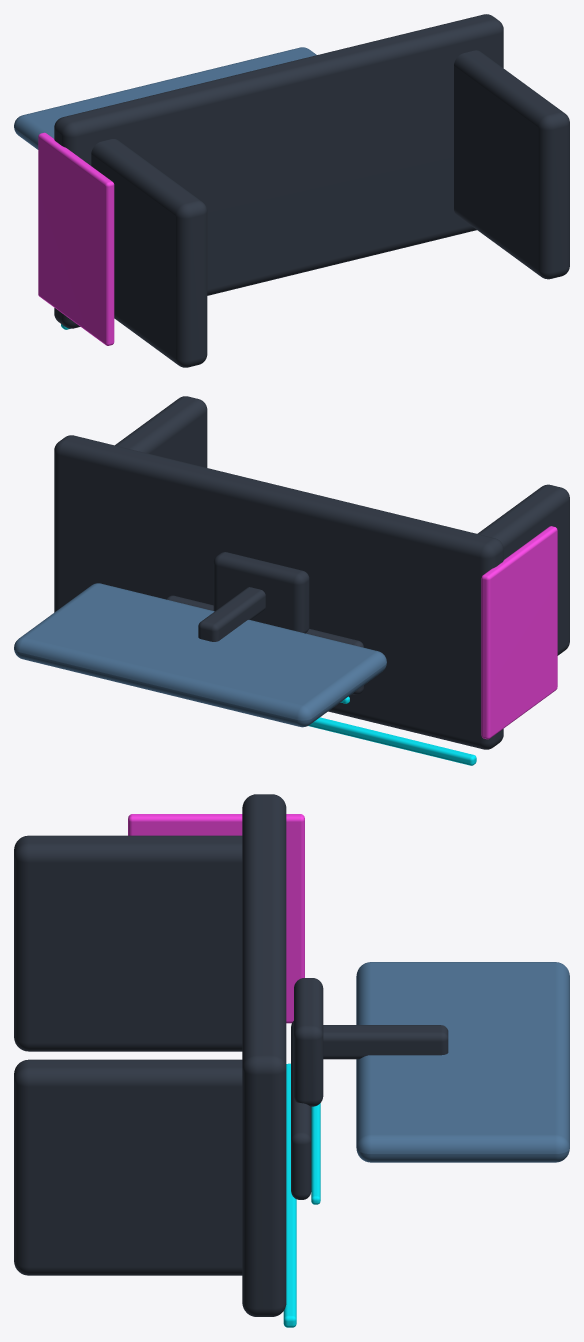
The model's file is 电竞霓虹电脑桌.fbx.
3 views of the same model, one above another, from view 1: azimuth 30°, elevation 25°; view 2: azimuth 150°, elevation 25°; view 3: azimuth 270°, elevation 25° (orthographic). The views are drawn at different scales.
Parts seen in each view (by area): view 1: 电竞霓虹电脑桌_宽桌面, 电竞霓虹电脑桌_右支架, 电竞霓虹电脑桌_左支架, 电竞霓虹电脑桌_品红侧灯条, 电竞霓虹电脑桌_超宽显示器; view 2: 电竞霓虹电脑桌_宽桌面, 电竞霓虹电脑桌_超宽显示器, 电竞霓虹电脑桌_品红侧灯条, 电竞霓虹电脑桌_显示器底座, 电竞霓虹电脑桌_左支架, 电竞霓虹电脑桌_右支架, 电竞霓虹电脑桌_青色前灯条, 电竞霓虹电脑桌_显示器支柱, 电竞霓虹电脑桌_键盘; view 3: 电竞霓虹电脑桌_右支架, 电竞霓虹电脑桌_左支架, 电竞霓虹电脑桌_超宽显示器, 电竞霓虹电脑桌_宽桌面, 电竞霓虹电脑桌_品红侧灯条, 电竞霓虹电脑桌_显示器支柱, 电竞霓虹电脑桌_显示器底座, 电竞霓虹电脑桌_键盘, 电竞霓虹电脑桌_青色前灯条, 电竞霓虹电脑桌_键盘光带.
Boxes of the visible parts, left/top/right/bottom form: 电竞霓虹电脑桌_宽桌面: left=54, top=14, right=503, bottom=328; 电竞霓虹电脑桌_右支架: left=454, top=50, right=569, bottom=279; 电竞霓虹电脑桌_左支架: left=91, top=139, right=207, bottom=367; 电竞霓虹电脑桌_品红侧灯条: left=38, top=132, right=114, bottom=345; 电竞霓虹电脑桌_超宽显示器: left=14, top=47, right=316, bottom=149; 电竞霓虹电脑桌_宽桌面: left=54, top=435, right=503, bottom=749; 电竞霓虹电脑桌_超宽显示器: left=14, top=583, right=386, bottom=727; 电竞霓虹电脑桌_品红侧灯条: left=481, top=526, right=557, bottom=739; 电竞霓虹电脑桌_显示器底座: left=213, top=552, right=309, bottom=633; 电竞霓虹电脑桌_左支架: left=477, top=484, right=569, bottom=655; 电竞霓虹电脑桌_右支架: left=115, top=396, right=207, bottom=467; 电竞霓虹电脑桌_青色前灯条: left=308, top=717, right=476, bottom=765; 电竞霓虹电脑桌_显示器支柱: left=198, top=587, right=265, bottom=641; 电竞霓虹电脑桌_键盘: left=166, top=595, right=363, bottom=694; 电竞霓虹电脑桌_右支架: left=14, top=1059, right=242, bottom=1275; 电竞霓虹电脑桌_左支架: left=14, top=835, right=242, bottom=1051; 电竞霓虹电脑桌_超宽显示器: left=356, top=962, right=569, bottom=1162; 电竞霓虹电脑桌_宽桌面: left=242, top=794, right=286, bottom=1316; 电竞霓虹电脑桌_品红侧灯条: left=128, top=814, right=304, bottom=1023; 电竞霓虹电脑桌_显示器支柱: left=323, top=1025, right=448, bottom=1059; 电竞霓虹电脑桌_显示器底座: left=294, top=978, right=323, bottom=1106; 电竞霓虹电脑桌_键盘: left=291, top=1021, right=311, bottom=1199; 电竞霓虹电脑桌_青色前灯条: left=283, top=1063, right=296, bottom=1327; 电竞霓虹电脑桌_键盘光带: left=311, top=1103, right=320, bottom=1204.
Size of the model in its own units: 177 by 82.75 by 151.
